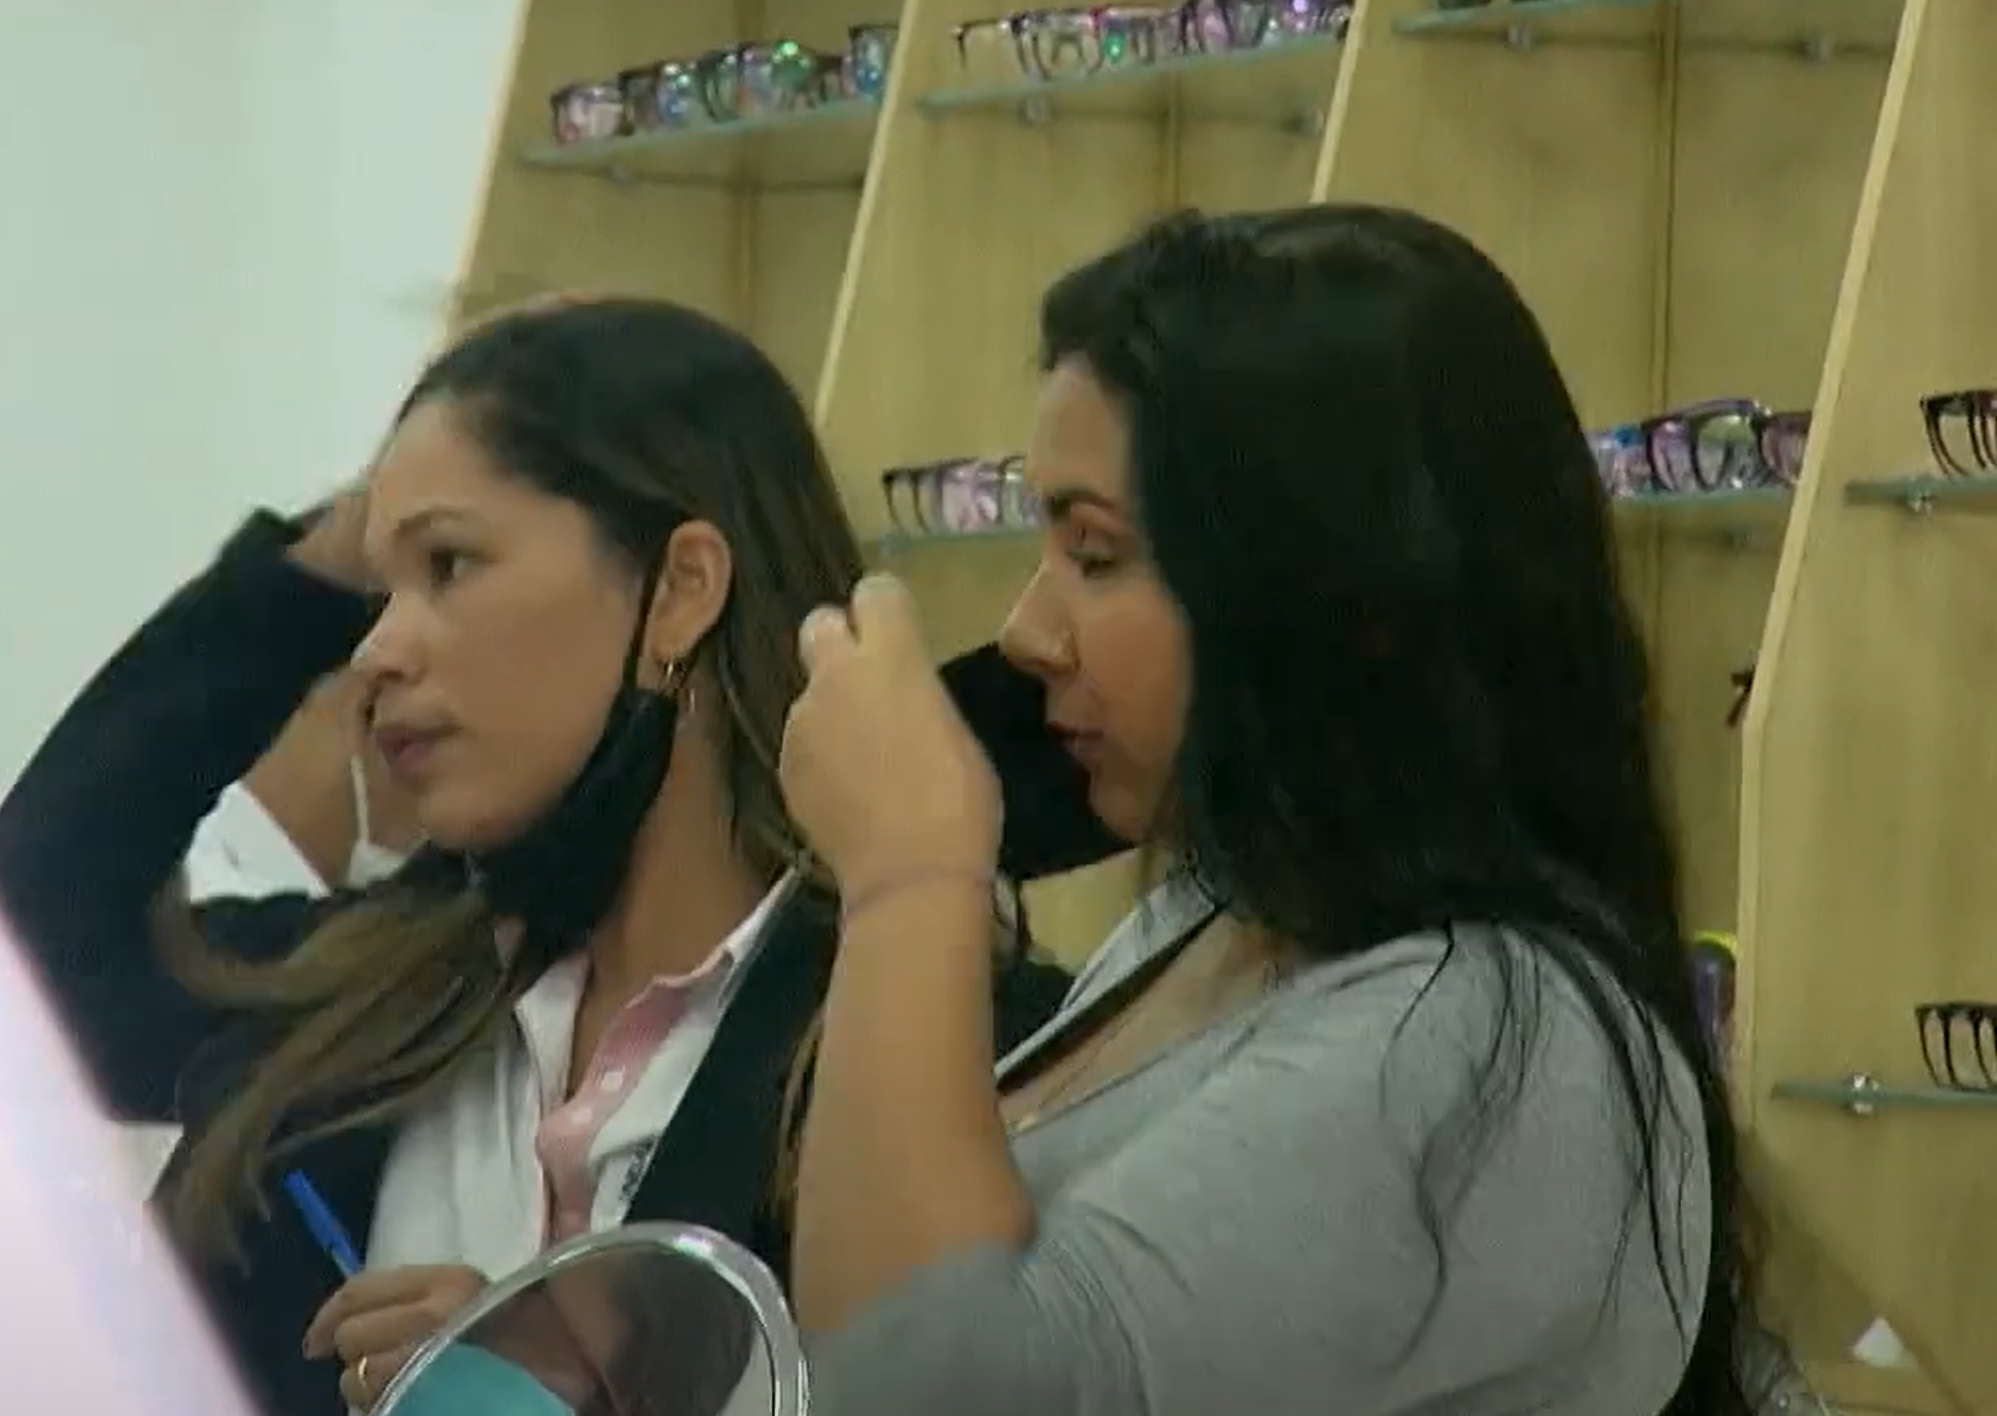mask_weared_incorrect: (339, 425, 743, 924)
